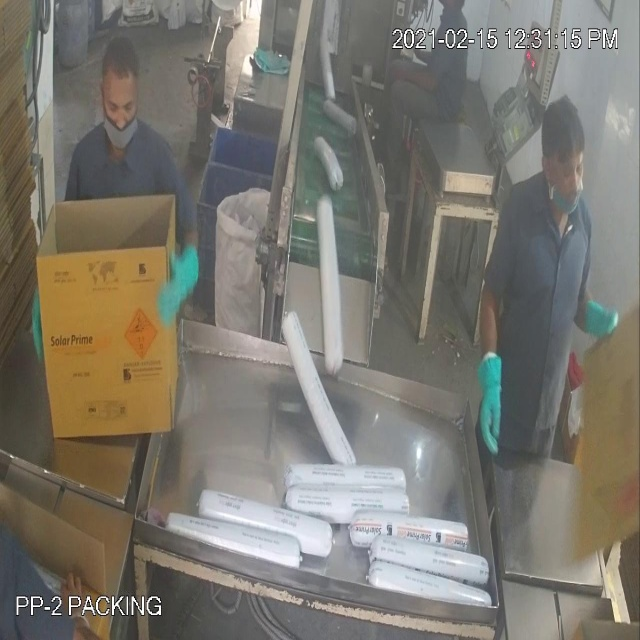Guantes: (135, 235, 210, 339), (466, 323, 518, 473)
Sin_guantes: (389, 47, 458, 116)
